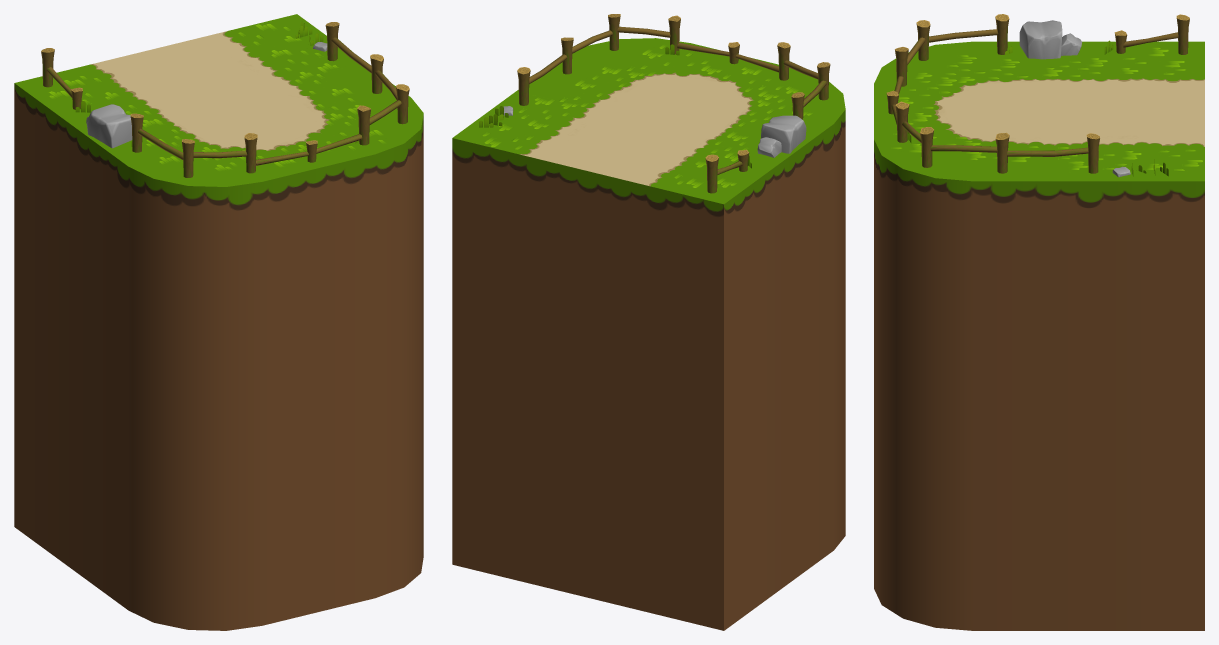
Rendered from Plataforma Final.fbx.
The picture shows the model from 3 angles, left to right: view 1: azimuth 30°, elevation 25°; view 2: azimuth 150°, elevation 25°; view 3: azimuth 270°, elevation 25°; orthographic projection. The views are drawn at different scales.
Visible parts, largest first — view 1: Plataforma Inicio.002, Cube.173, Cylinder.084; view 2: Plataforma Inicio.002, Cube.173, Cylinder.084; view 3: Plataforma Inicio.002, Cube.173, Cylinder.097, Cylinder.086, Cylinder.090, Cylinder.091, Cylinder.089.
Part boxes in pixels (box(x1,y1,x2,y2)): Plataforma Inicio.002: box(14, 14, 423, 630); Cube.173: box(87, 104, 132, 148); Cylinder.084: box(256, 134, 362, 165); Plataforma Inicio.002: box(452, 38, 845, 630); Cube.173: box(761, 115, 806, 153); Cylinder.084: box(677, 43, 778, 72); Plataforma Inicio.002: box(874, 41, 1204, 630); Cube.173: box(1019, 20, 1062, 59); Cylinder.097: box(1007, 147, 1088, 156); Cylinder.086: box(920, 127, 933, 167); Cylinder.090: box(995, 132, 1009, 173); Cylinder.091: box(929, 29, 998, 42); Cylinder.089: box(995, 14, 1009, 54).
Size of the model in its own units: 1000 by 1621 by 1000.
